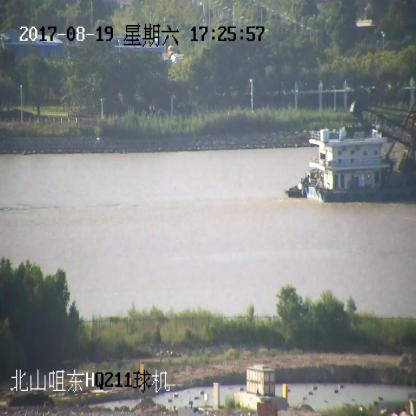Fishing Boat: (289, 101, 416, 201)
